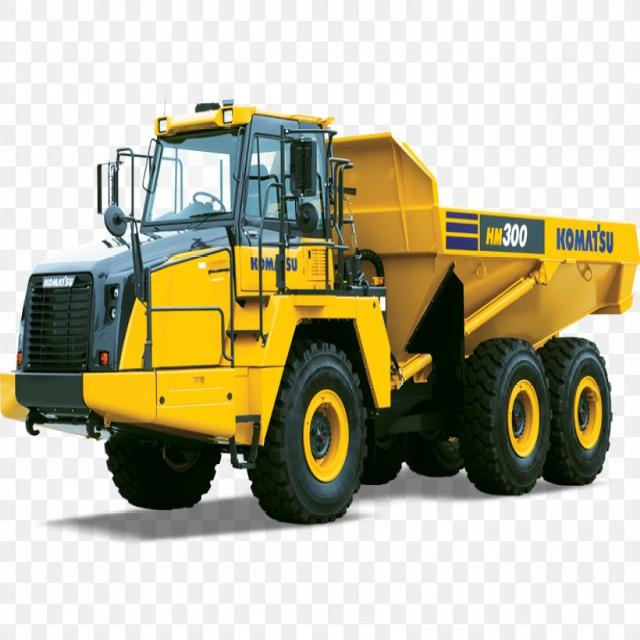dump_truck: (10, 99, 633, 526)
